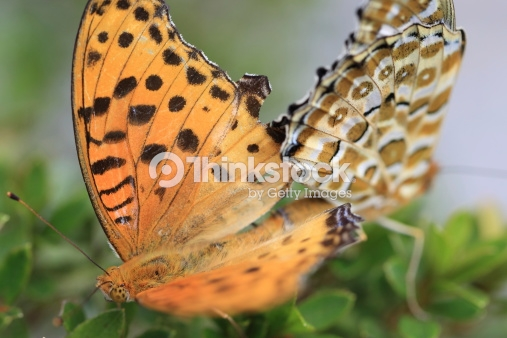Argyreus hyperbius: (8, 2, 369, 326), (269, 1, 469, 221)
butterfly: (6, 1, 367, 324), (271, 2, 471, 223)
